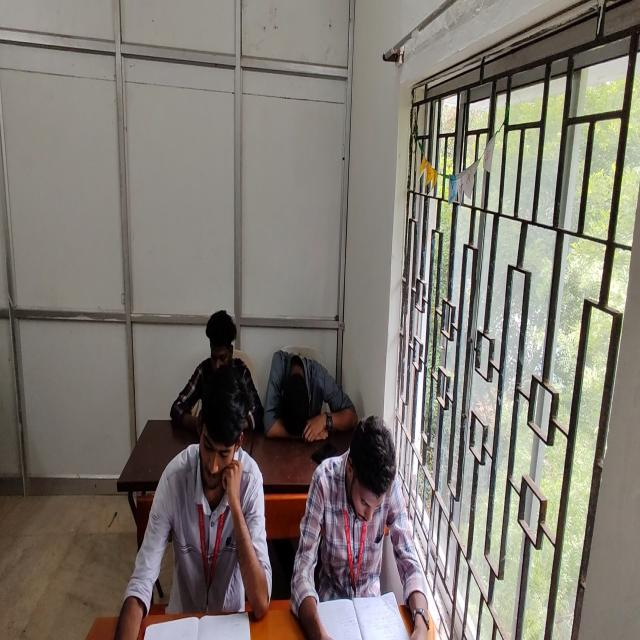reading: (119, 386, 279, 640), (285, 403, 439, 640)
sleeping: (258, 336, 370, 461)
using_mobile: (162, 307, 274, 442)
